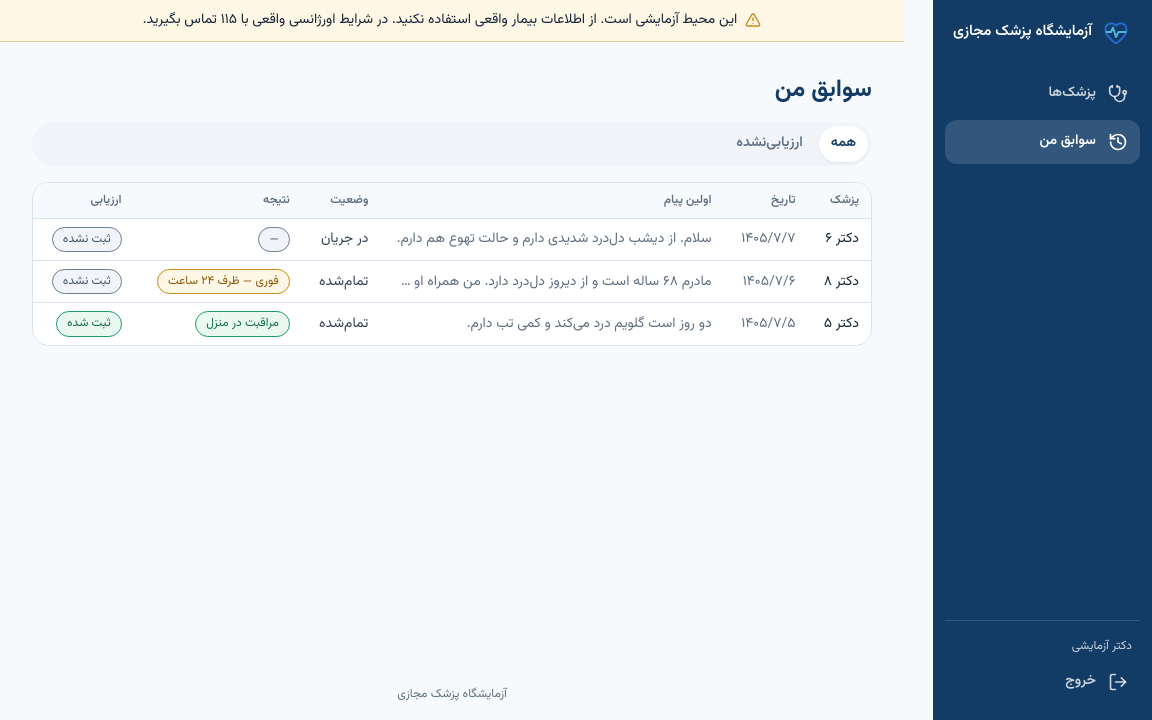
Test: my sessions › opens a session when a row is clicked
The image size is (1152, 720).
Expected: the table with test id "history-table" is shown, [33,183,871,345]
What coordinates should you click on to do the following:
click the link with test id "history-row" that starts with "دکتر ۸"
I would click on:
 (452, 282)
Its box is [33,261,871,303].
(page scrolled)
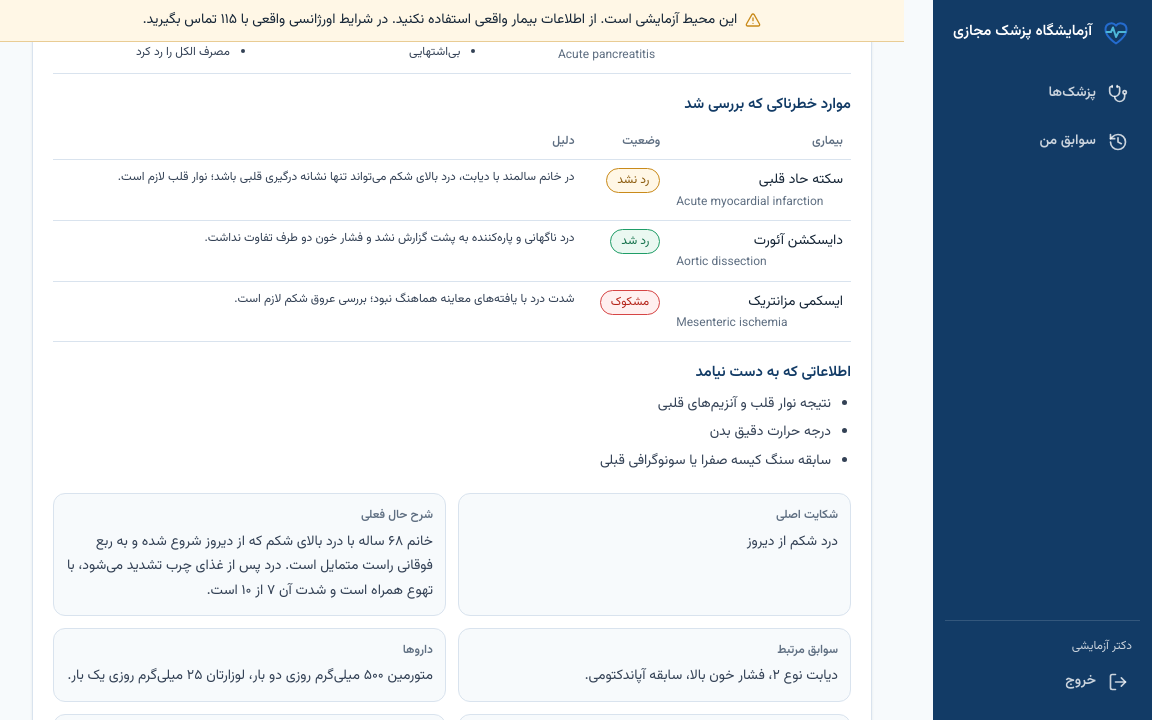
Expected: the table with test id "history-table" is gone
